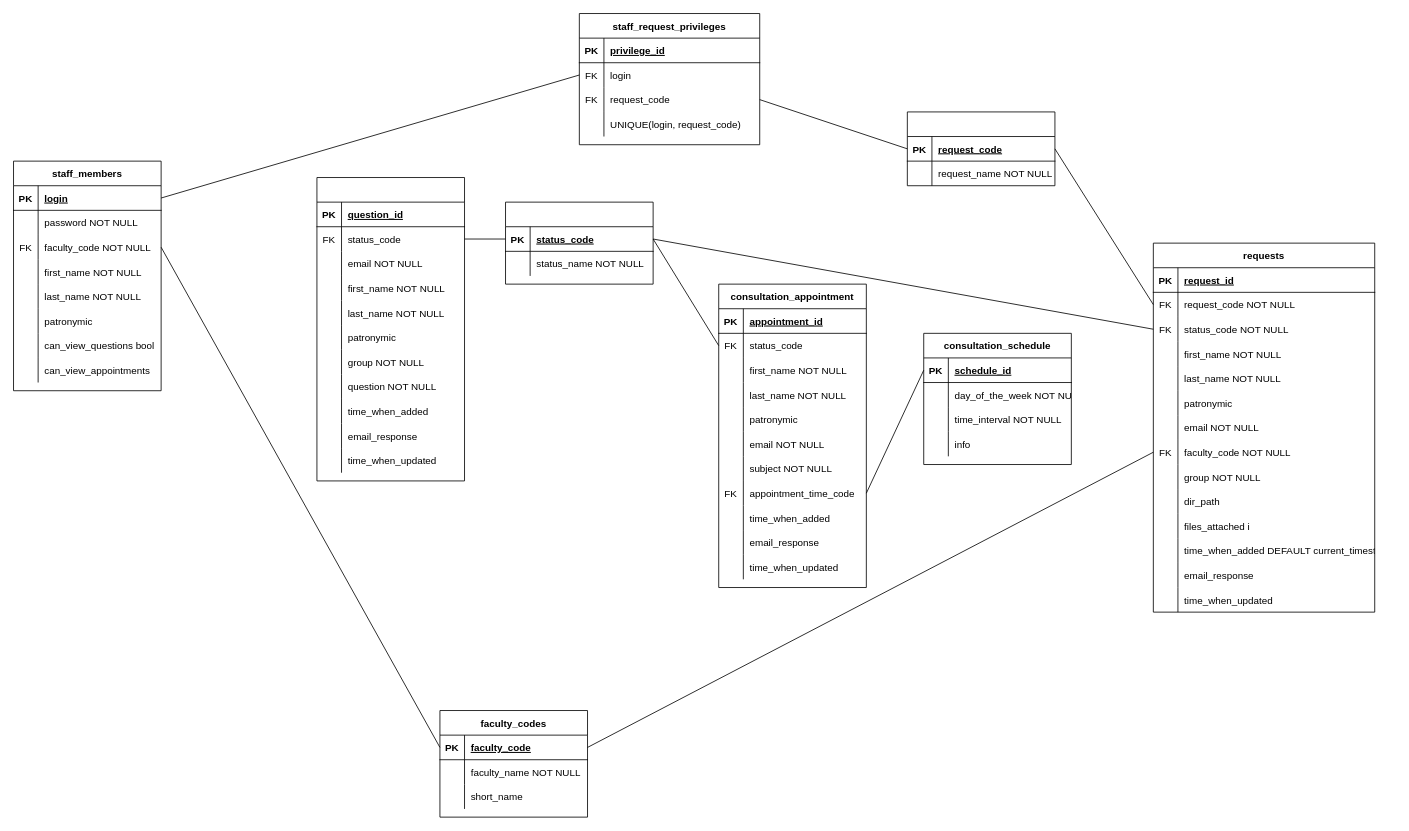
Some shapes in this 1409 by 831 pixel diagram are drawn without their labels. The box of each missing label's shape, as (x1, y1, x2, y2) in pixels:
questions: (316, 177, 465, 481)
request_codes: (907, 111, 1055, 186)
status_codes: (505, 201, 653, 284)
